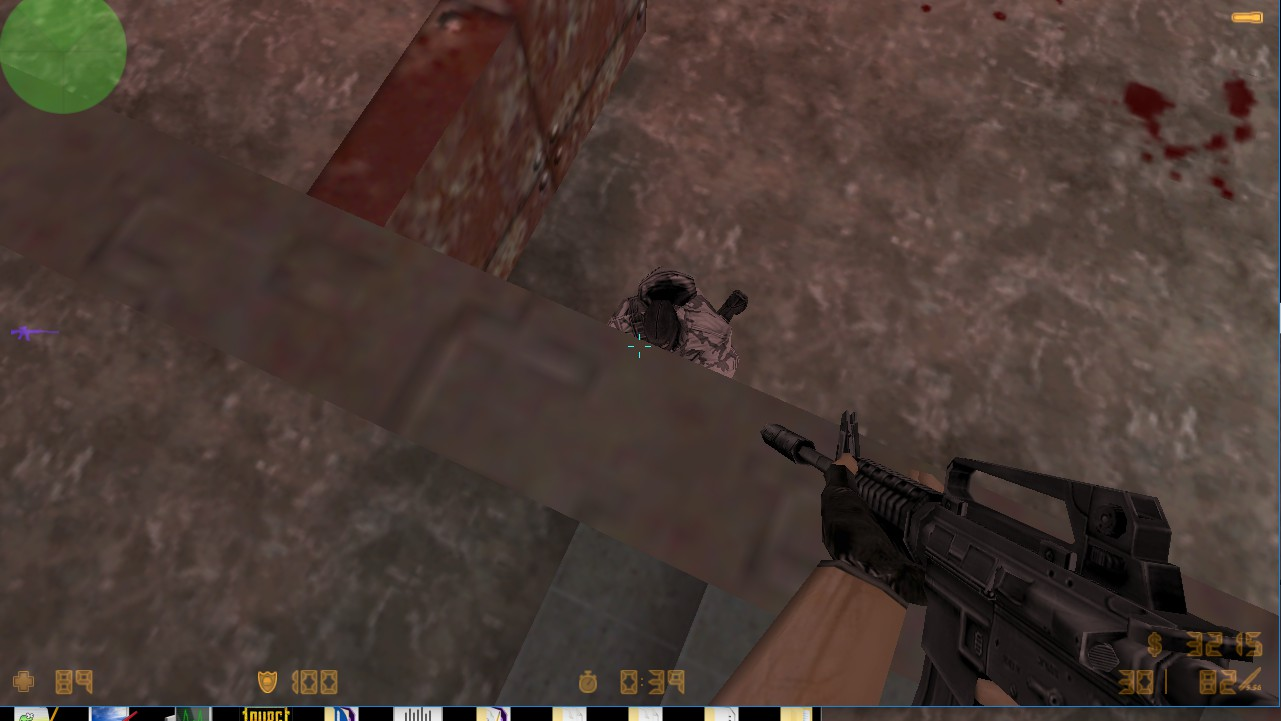person: (592, 259, 753, 389)
